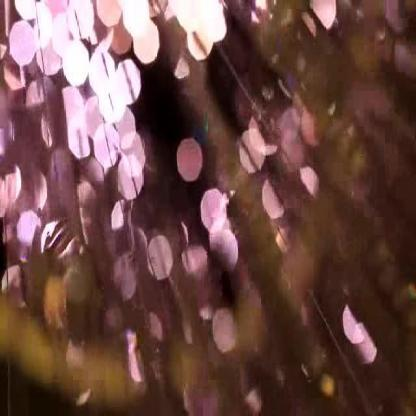other: (1, 0, 321, 323)
